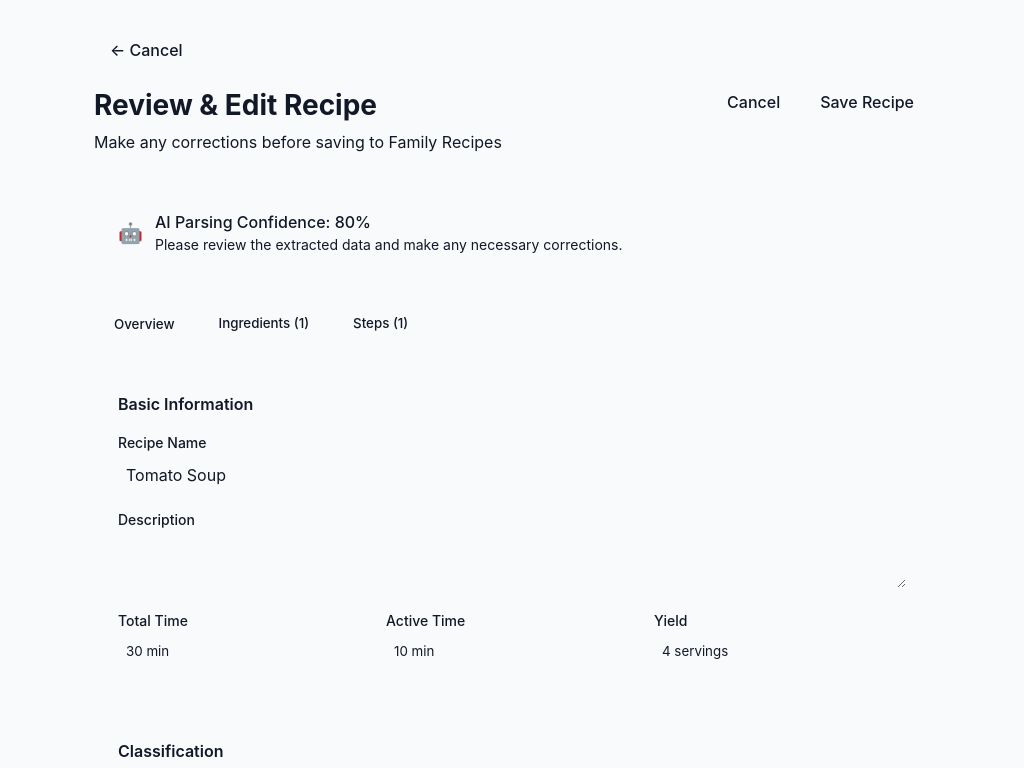
it: RecipeEditor › tidies shorthand times on blur
Click the button "Steps (1)": x=381, y=324 [333,303,428,345]
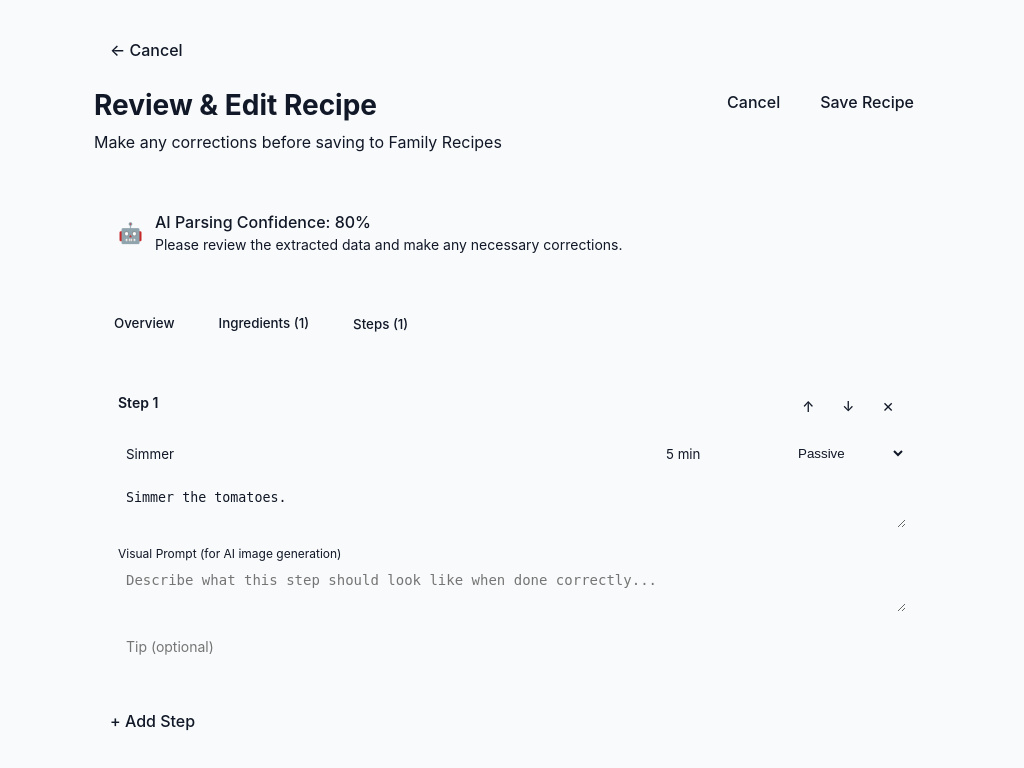
Replace the text in the field named "Step 1 time" with "90": x=718, y=454 [658,437,778,470]
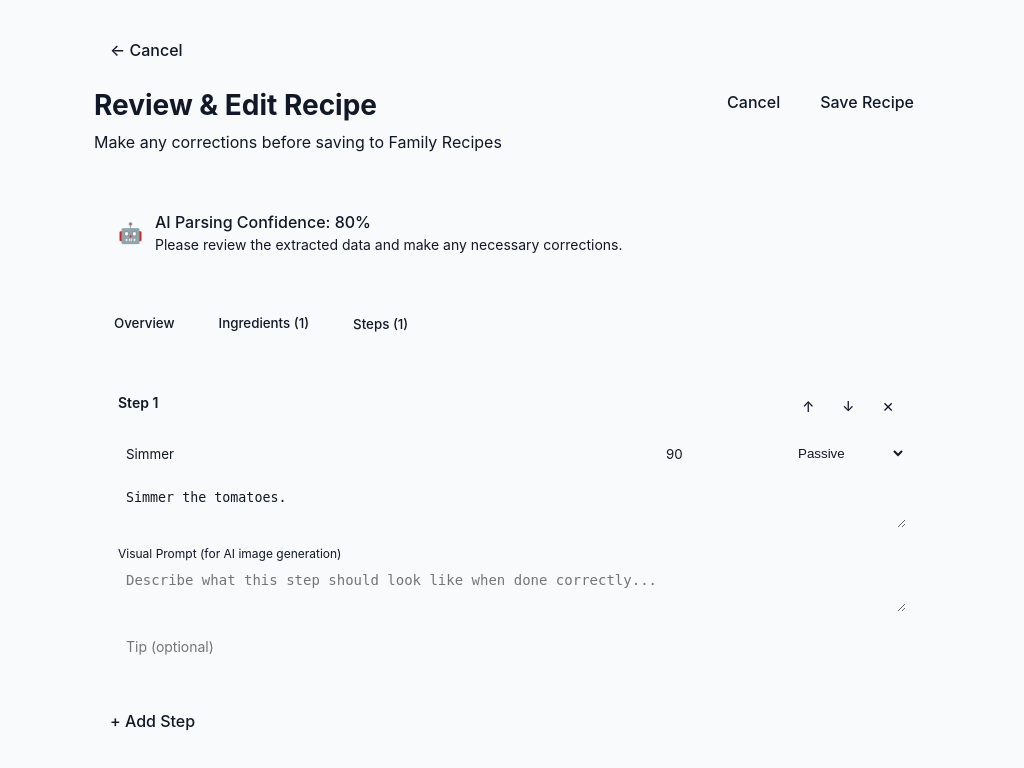
Leave the field named "Step 1 time", box [658,437,778,470]
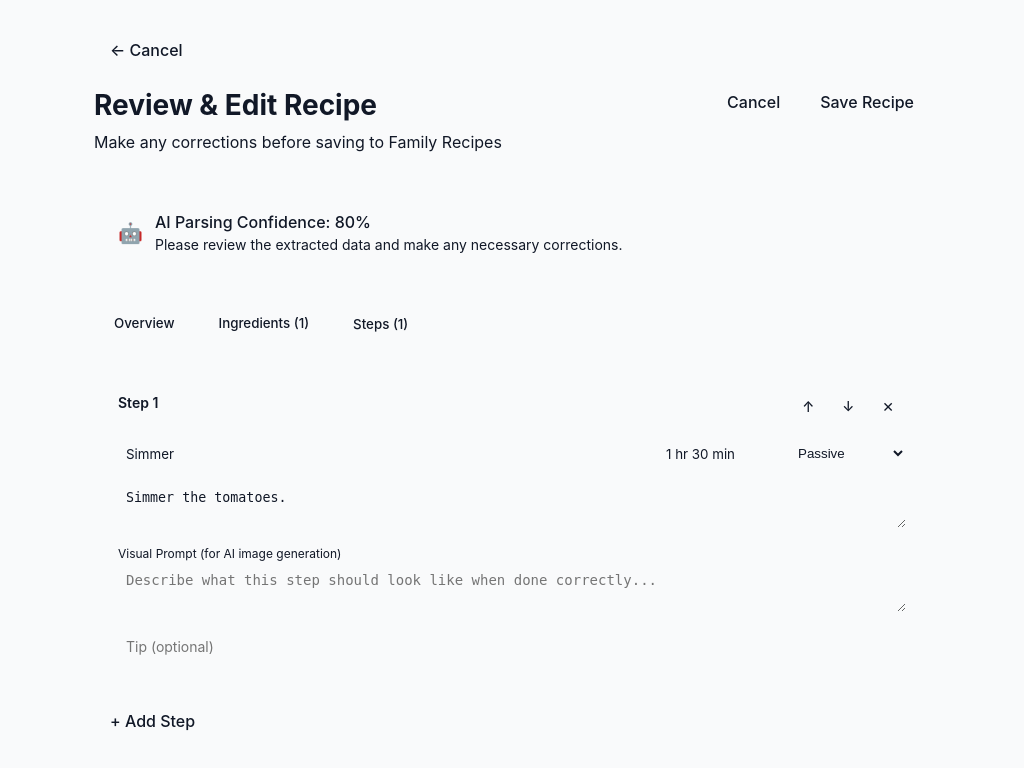
Result: the field named "Step 1 time" holds "1 hr 30 min" at [658,437,778,470]
